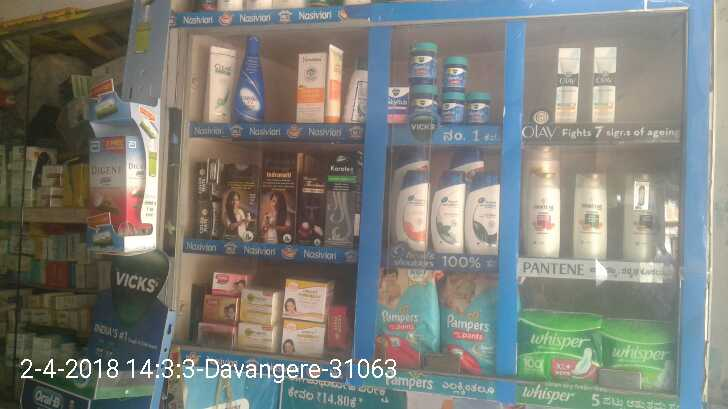vicks: (408, 41, 436, 81), (410, 83, 437, 122), (440, 90, 468, 123), (440, 57, 466, 90), (468, 93, 496, 123), (385, 87, 406, 122)
